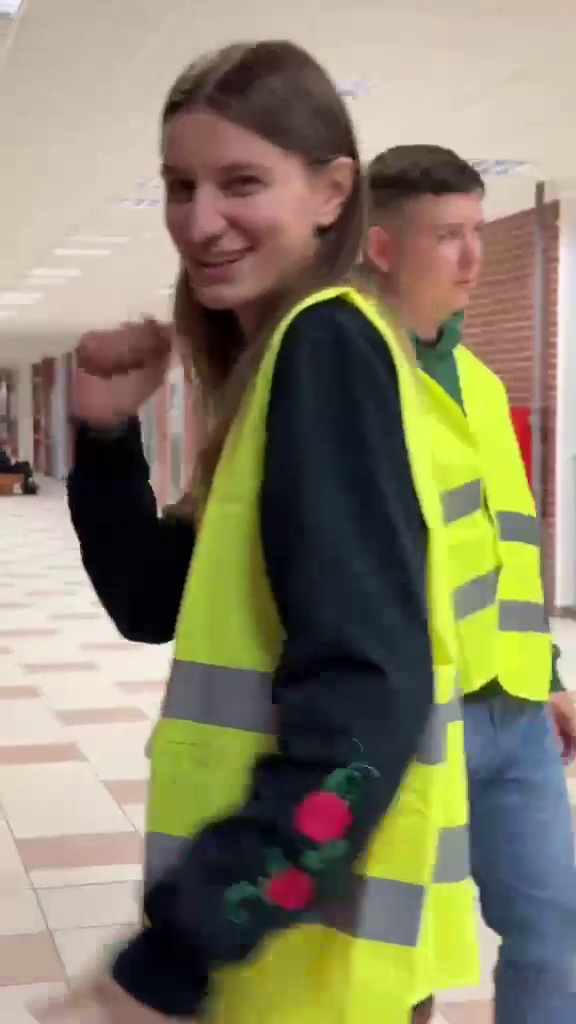vest: (143, 32, 409, 982), (374, 150, 576, 996)
